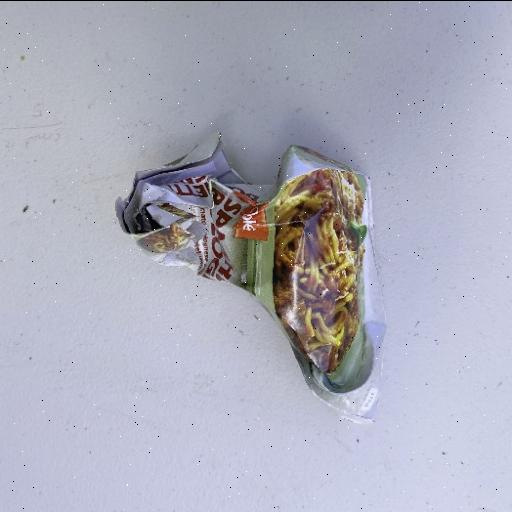Cardboard: (113, 129, 387, 422)
